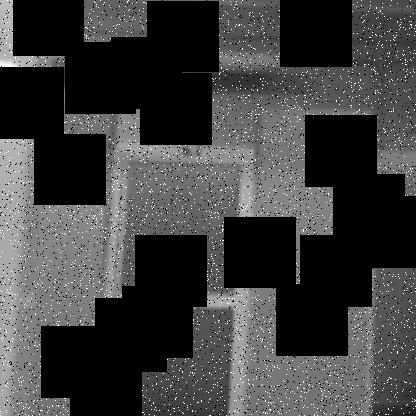Porte: (94, 151, 258, 416)
